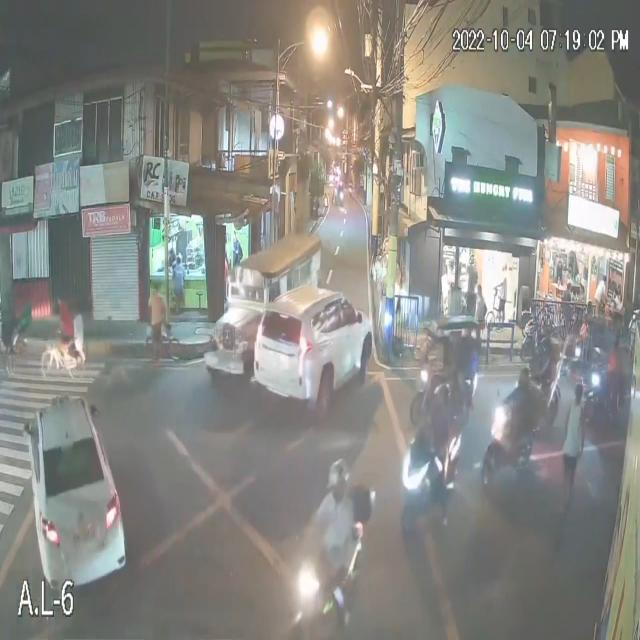Full-Faced: (324, 455, 349, 501), (516, 364, 533, 391)
